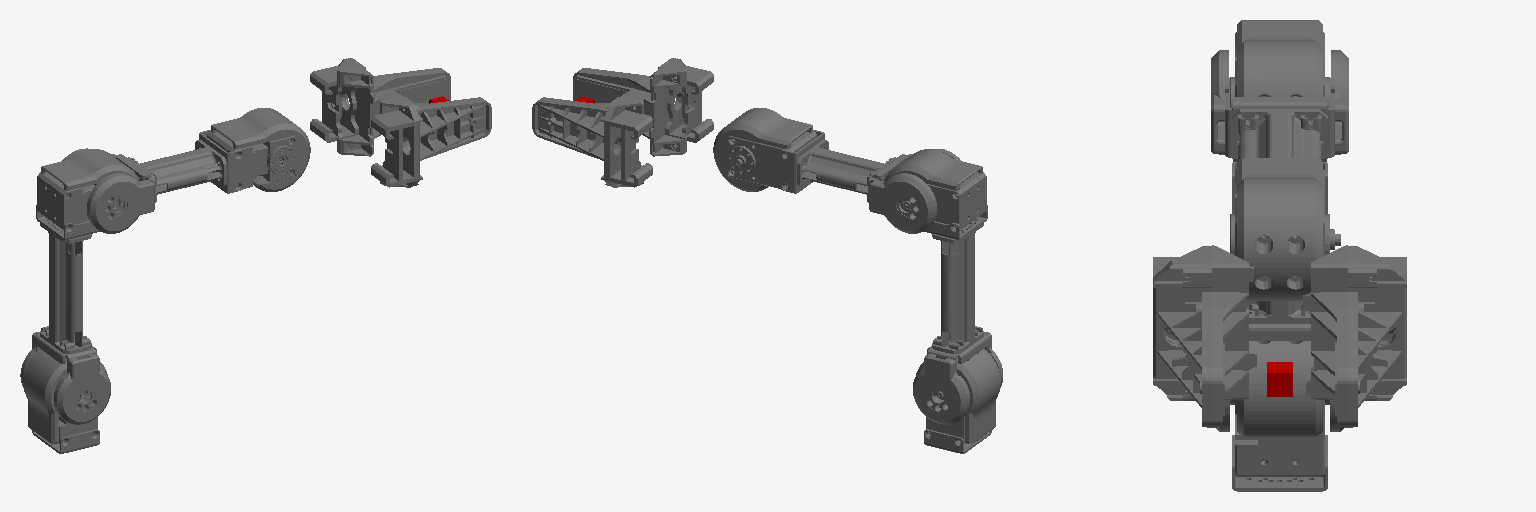
robot.urdf — open_manipulator:
<?xml version="1.0" ?>
<robot name="open_manipulator">
  <material name="red">
    <color rgba="0.8 0.0 0.0 1.0"/>
  </material>
  <material name="grey">
    <color rgba="0.5 0.5 0.5 1.0"/>
  </material>
  <link name="base_link">
    <visual>
      <origin rpy="0 0 0" xyz="0 0 0"/>
      <geometry>
        <mesh filename="../meshes/stl/chain_link1.stl" scale="0.001 0.001 0.001"/>
      </geometry>
      <material name="grey"/>
    </visual>
    <collision>
      <origin rpy="0 0 0" xyz="0 0 0"/>
      <geometry>
        <mesh filename="../meshes/stl/chain_link1.stl" scale="0.001 0.001 0.001"/>
      </geometry>
    </collision>
    <inertial>
      <origin xyz="3.0876154e-04 0.0000000e+00 -1.2176461e-04"/>
      <mass value="7.9119962e-02"/>
      <inertia ixx="1.2505234e-05" ixy="0.0" ixz="-1.7855208e-07" iyy="2.1898364e-05" iyz="0.0" izz="1.9267361e-05"/>
    </inertial>
  </link>
  <!-- Joint 1 -->
  <joint name="joint1" type="revolute">
    <parent link="base_link"/>
    <child link="link2"/>
    <origin rpy="0 0 0" xyz="0.012 0.0 0.017"/>
    <axis xyz="0 0 1"/>
    <limit effort="1" lower="-2.827433388230814" upper="2.827433388230814" velocity="4.8"/>
  </joint>
  <!--  Link 2 -->
  <link name="link2">
    <visual>
      <origin rpy="0 0 0" xyz="0 0 0.019"/>
      <geometry>
        <mesh filename="../meshes/stl/chain_link2.stl" scale="0.001 0.001 0.001"/>
      </geometry>
      <material name="grey"/>
    </visual>
    <collision>
      <origin rpy="0 0 0" xyz="0 0 0.019"/>
      <geometry>
        <mesh filename="../meshes/stl/chain_link2.stl" scale="0.001 0.001 0.001"/>
      </geometry>
    </collision>
    <inertial>
      <origin xyz="-3.0184870e-04 5.4043684e-04 0.047433463999999995"/>
      <mass value="9.8406837e-02"/>
      <inertia ixx="3.4543422e-05" ixy="-1.6031095e-08" ixz="-3.8375155e-07" iyy="3.2689329e-05" iyz="2.8511935e-08" izz="1.8850320e-05"/>
    </inertial>
  </link>
  <!--  Joint 2 -->
  <joint name="joint2" type="revolute">
    <parent link="link2"/>
    <child link="link3"/>
    <origin rpy="0 0 0" xyz="0.0 0.0 0.0595"/>
    <axis xyz="0 1 0"/>
    <limit effort="1" lower="-1.790707812546182" upper="1.5707963267948966" velocity="4.8"/>
  </joint>
  <!--  Link 3 -->
  <link name="link3">
    <visual>
      <origin rpy="0 0 0" xyz="0 0 0"/>
      <geometry>
        <mesh filename="../meshes/stl/chain_link3.stl" scale="0.001 0.001 0.001"/>
      </geometry>
      <material name="grey"/>
    </visual>
    <collision>
      <origin rpy="0 0 0" xyz="0 0 0"/>
      <geometry>
        <mesh filename="../meshes/stl/chain_link3.stl" scale="0.001 0.001 0.001"/>
      </geometry>
    </collision>
    <inertial>
      <origin xyz="1.0308393e-02 3.7743363e-04 1.0170197e-01"/>
      <mass value="1.3850917e-01"/>
      <inertia ixx="3.3055381e-04" ixy="-9.7940978e-08" ixz="-3.8505711e-05" iyy="3.4290447e-04" iyz="-1.5717516e-06" izz="6.0346498e-05"/>
    </inertial>
  </link>
  <!--  Joint 3 -->
  <joint name="joint3" type="revolute">
    <parent link="link3"/>
    <child link="link4"/>
    <origin rpy="0 0 0" xyz="0.024 0 0.128"/>
    <axis xyz="0 1 0"/>
    <limit effort="1" lower="-0.9424777960769379" upper="1.382300767579509" velocity="4.8"/>
  </joint>
  <!--  Link 4 -->
  <link name="link4">
    <visual>
      <origin rpy="0 0 0" xyz="0 0 0"/>
      <geometry>
        <mesh filename="../meshes/stl/chain_link4.stl" scale="0.001 0.001 0.001"/>
      </geometry>
      <material name="grey"/>
    </visual>
    <collision>
      <origin rpy="0 0 0" xyz="0 0 0"/>
      <geometry>
        <mesh filename="../meshes/stl/chain_link4.stl" scale="0.001 0.001 0.001"/>
      </geometry>
    </collision>
    <inertial>
      <origin xyz="9.0909590e-02 3.8929816e-04 2.2413279e-04"/>
      <mass value="1.3274562e-01"/>
      <inertia ixx="3.0654178e-05" ixy="-1.2764155e-06" ixz="-2.6874417e-07" iyy="2.4230292e-04" iyz="1.1559550e-08" izz="2.5155057e-04"/>
    </inertial>
  </link>
  <!--  Joint 4 -->
  <joint name="joint4" type="revolute">
    <parent link="link4"/>
    <child link="link5"/>
    <origin rpy="0 0 0" xyz="0.124 0.0 0.0"/>
    <axis xyz="0 1 0"/>
    <limit effort="1" lower="-1.790707812546182" upper="2.0420352248333655" velocity="4.8"/>
  </joint>
  <!--  Link 5 -->
  <link name="link5">
    <visual>
      <origin rpy="0 0 0" xyz="0 0 0"/>
      <geometry>
        <mesh filename="../meshes/stl/chain_link5.stl" scale="0.001 0.001 0.001"/>
      </geometry>
      <material name="grey"/>
    </visual>
    <collision>
      <origin rpy="0 0 0" xyz="0 0 0"/>
      <geometry>
        <mesh filename="../meshes/stl/chain_link5.stl" scale="0.001 0.001 0.001"/>
      </geometry>
    </collision>
    <inertial>
      <origin xyz="4.4206755e-02 3.6839985e-07 8.9142216e-03"/>
      <mass value="1.4327573e-01"/>
      <inertia ixx="8.0870749e-05" ixy="0.0" ixz="-1.0157896e-06" iyy="7.5980465e-05" iyz="0.0" izz="9.3127351e-05"/>
    </inertial>
  </link>
  <!--  Gripper joint -->
  <joint name="gripper" type="prismatic">
    <parent link="link5"/>
    <child link="gripper_link"/>
    <origin rpy="0 0 0" xyz="0.0817 0.021 0.0"/>
    <axis xyz="0 1 0"/>
    <limit effort="1" lower="-0.010" upper="0.019" velocity="4.8"/>
  </joint>
  <!--  Gripper link -->
  <link name="gripper_link">
    <visual>
      <origin rpy="0 0 0" xyz="0.0 0.0 0"/>
      <geometry>
        <mesh filename="../meshes/stl/chain_link_grip_l.stl" scale="0.001 0.001 0.001"/>
      </geometry>
      <material name="grey"/>
    </visual>
    <collision>
      <origin rpy="0 0 0" xyz="0.0 0.0 0"/>
      <geometry>
        <mesh filename="../meshes/stl/chain_link_grip_l.stl" scale="0.001 0.001 0.001"/>
      </geometry>
    </collision>
    <inertial>
      <origin xyz="0 0 0"/>
      <mass value="1.0e-03"/>
      <inertia ixx="1.0e-03" ixy="0.0" ixz="0.0" iyy="1.0e-03" iyz="0.0" izz="1.0e-03"/>
    </inertial>
  </link>
  <!--  Gripper joint sub -->
  <joint name="gripper_sub" type="prismatic">
    <parent link="link5"/>
    <child link="gripper_link_sub"/>
    <origin rpy="0 0 0" xyz="0.0817 -0.021 0"/>
    <axis xyz="0 -1 0"/>
    <limit effort="1" lower="-0.010" upper="0.019" velocity="4.8"/>
  </joint>
  <!--  Gripper link sub -->
  <link name="gripper_link_sub">
    <visual>
      <origin rpy="0 0 0" xyz="0.0 -0.0 0"/>
      <geometry>
        <mesh filename="../meshes/stl/chain_link_grip_r.stl" scale="0.001 0.001 0.001"/>
      </geometry>
      <material name="grey"/>
    </visual>
    <collision>
      <origin rpy="0 0 0" xyz="0.0 -0.0 0"/>
      <geometry>
        <mesh filename="../meshes/stl/chain_link_grip_r.stl" scale="0.001 0.001 0.001"/>
      </geometry>
    </collision>
    <inertial>
      <origin xyz="0 0 0"/>
      <mass value="1.0e-03"/>
      <inertia ixx="1.0e-03" ixy="0.0" ixz="0.0" iyy="1.0e-03" iyz="0.0" izz="1.0e-03"/>
    </inertial>
  </link>
  <!-- end effector joint -->
  <joint name="end_effector_joint" type="fixed">
    <origin rpy="0 0 0" xyz="0.126 0.0 0.0"/>
    <parent link="link5"/>
    <child link="end_effector_link"/>
  </joint>
  <!-- end effector link -->
  <link name="end_effector_link">
    <visual>
      <origin rpy="0 0 0" xyz="0 0 0"/>
      <geometry>
        <box size="0.01 0.01 0.01"/>
      </geometry>
      <material name="red"/>
    </visual>
    <inertial>
      <origin xyz="0 0 0"/>
      <mass value="1.0e-03"/>
      <inertia ixx="1.0e-03" ixy="0.0" ixz="0.0" iyy="1.0e-03" iyz="0.0" izz="1.0e-03"/>
    </inertial>
  </link>
</robot>

--- Render facts (derived) ---
The picture shows the robot from 3 angles, left to right: view 1: azimuth 30°, elevation 25°; view 2: azimuth 150°, elevation 25°; view 3: azimuth 270°, elevation 25°; orthographic projection.
Robot: open_manipulator — 8 links, 7 joints (4 revolute, 2 prismatic, 1 fixed); root link base_link; default pose: all joints at 0.
Visible links, largest first — view 1: link3, link4, gripper_link_sub, gripper_link, link2; view 2: link3, link4, gripper_link, gripper_link_sub, link2; view 3: link4, gripper_link, gripper_link_sub, link2, link3, end_effector_link.
Boxes of the visible links, <box> form: link3: <box>20,149,139,424</box>; link4: <box>62,108,310,233</box>; gripper_link_sub: <box>371,88,491,187</box>; gripper_link: <box>310,58,450,156</box>; link2: <box>23,349,107,453</box>; link3: <box>884,149,1002,424</box>; link4: <box>713,108,960,233</box>; gripper_link: <box>532,88,652,187</box>; gripper_link_sub: <box>573,58,713,156</box>; link2: <box>916,349,1000,453</box>; link4: <box>1211,50,1348,300</box>; gripper_link: <box>1303,245,1406,427</box>; gripper_link_sub: <box>1153,245,1256,427</box>; link2: <box>1230,341,1329,491</box>; link3: <box>1216,20,1343,431</box>; end_effector_link: <box>1267,362,1292,396</box>.
Size in the robot's own frame: 0.3182 by 0.0972 by 0.1975 metres.
Meshes: 7 distinct files referenced, 5 mesh visuals loaded (5 binary STL); not drawn: 2 (reference not matched to a file when rendering).
